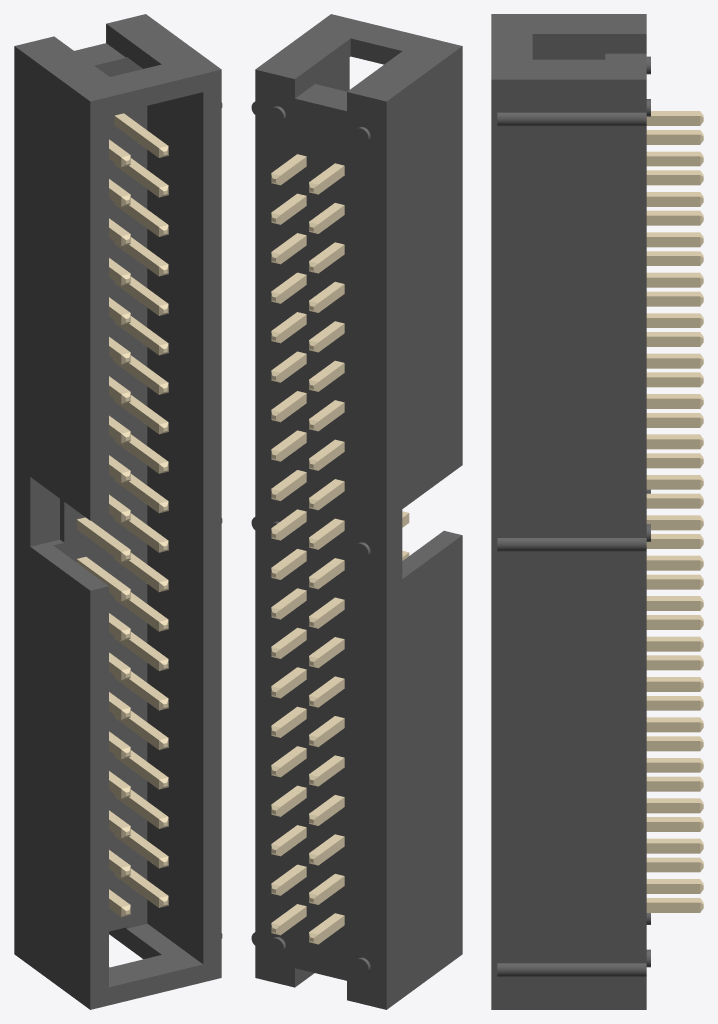
File: IDC-Header_2x20_P2.54mm_Vertical.glb
The picture shows the model from 3 angles, left to right: view 1: azimuth 30°, elevation 25°; view 2: azimuth 150°, elevation 25°; view 3: azimuth 270°, elevation 25°; orthographic projection. The views are drawn at different scales.
Visible parts, largest first — view 1: Shape_IndexedFaceSet, Shape_IndexedFaceSet.014, Shape_IndexedFaceSet.002, Shape_IndexedFaceSet.017, Shape_IndexedFaceSet.001, Shape_IndexedFaceSet.013, Shape_IndexedFaceSet.004, Shape_IndexedFaceSet.005, Shape_IndexedFaceSet.011, Shape_IndexedFaceSet.019, Shape_IndexedFaceSet.026, Shape_IndexedFaceSet.169; view 2: Shape_IndexedFaceSet.007, Shape_IndexedFaceSet, Shape_IndexedFaceSet.001, Shape_IndexedFaceSet.011, Shape_IndexedFaceSet.005, Shape_IndexedFaceSet.026, Shape_IndexedFaceSet.010, Shape_IndexedFaceSet.014; view 3: Shape_IndexedFaceSet.008, Shape_IndexedFaceSet.001, Shape_IndexedFaceSet.025, Shape_IndexedFaceSet.009, Shape_IndexedFaceSet.023, Shape_IndexedFaceSet.024, Shape_IndexedFaceSet.060, Shape_IndexedFaceSet.130, Shape_IndexedFaceSet.158, Shape_IndexedFaceSet.228, Shape_IndexedFaceSet.368, Shape_IndexedFaceSet.438 (+35 smaller).
Boxes of the visible parts, <box> form: Shape_IndexedFaceSet: <box>14,46,90,1009</box>; Shape_IndexedFaceSet.014: <box>147,92,203,963</box>; Shape_IndexedFaceSet.002: <box>90,69,221,1009</box>; Shape_IndexedFaceSet.017: <box>53,57,147,931</box>; Shape_IndexedFaceSet.001: <box>15,14,221,101</box>; Shape_IndexedFaceSet.013: <box>109,923,202,987</box>; Shape_IndexedFaceSet.004: <box>30,477,59,546</box>; Shape_IndexedFaceSet.005: <box>30,539,108,590</box>; Shape_IndexedFaceSet.011: <box>106,24,161,68</box>; Shape_IndexedFaceSet.019: <box>109,927,161,959</box>; Shape_IndexedFaceSet.026: <box>74,43,125,65</box>; Shape_IndexedFaceSet.169: <box>76,520,121,561</box>; Shape_IndexedFaceSet.007: <box>251,69,386,1009</box>; Shape_IndexedFaceSet: <box>386,46,462,1009</box>; Shape_IndexedFaceSet.001: <box>255,14,461,101</box>; Shape_IndexedFaceSet.011: <box>295,38,350,98</box>; Shape_IndexedFaceSet.005: <box>402,531,461,578</box>; Shape_IndexedFaceSet.026: <box>295,84,346,111</box>; Shape_IndexedFaceSet.010: <box>350,38,402,64</box>; Shape_IndexedFaceSet.014: <box>315,57,349,91</box>; Shape_IndexedFaceSet.008: <box>491,79,646,1009</box>; Shape_IndexedFaceSet.001: <box>491,14,646,79</box>; Shape_IndexedFaceSet.025: <box>497,112,646,126</box>; Shape_IndexedFaceSet.009: <box>532,34,646,53</box>; Shape_IndexedFaceSet.023: <box>497,963,646,976</box>; Shape_IndexedFaceSet.024: <box>497,538,646,551</box>; Shape_IndexedFaceSet.060: <box>646,843,700,853</box>; Shape_IndexedFaceSet.130: <box>646,641,700,651</box>; Shape_IndexedFaceSet.158: <box>646,560,700,570</box>; Shape_IndexedFaceSet.228: <box>646,358,700,368</box>; Shape_IndexedFaceSet.368: <box>646,781,700,791</box>; Shape_IndexedFaceSet.438: <box>646,579,700,589</box>.
Bounding box in the file's own units: 3.58 × 23.02 × 4.76.
